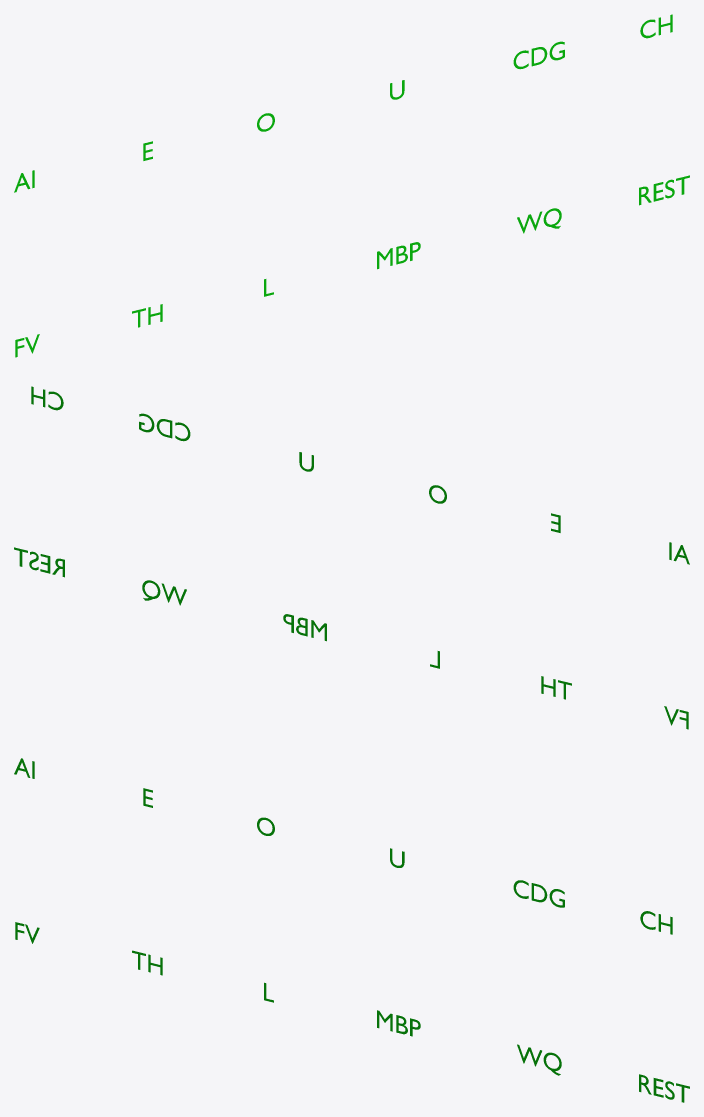
File: anim hablar 1.fbx
3 renders of one model, top to bottom at view 1: azimuth 30°, elevation 25°; view 2: azimuth 150°, elevation 25°; view 3: azimuth 330°, elevation 25°, orthographic.
Bounding box in the file's own units: 38.48 × 10.15 × 1.28e-06.
